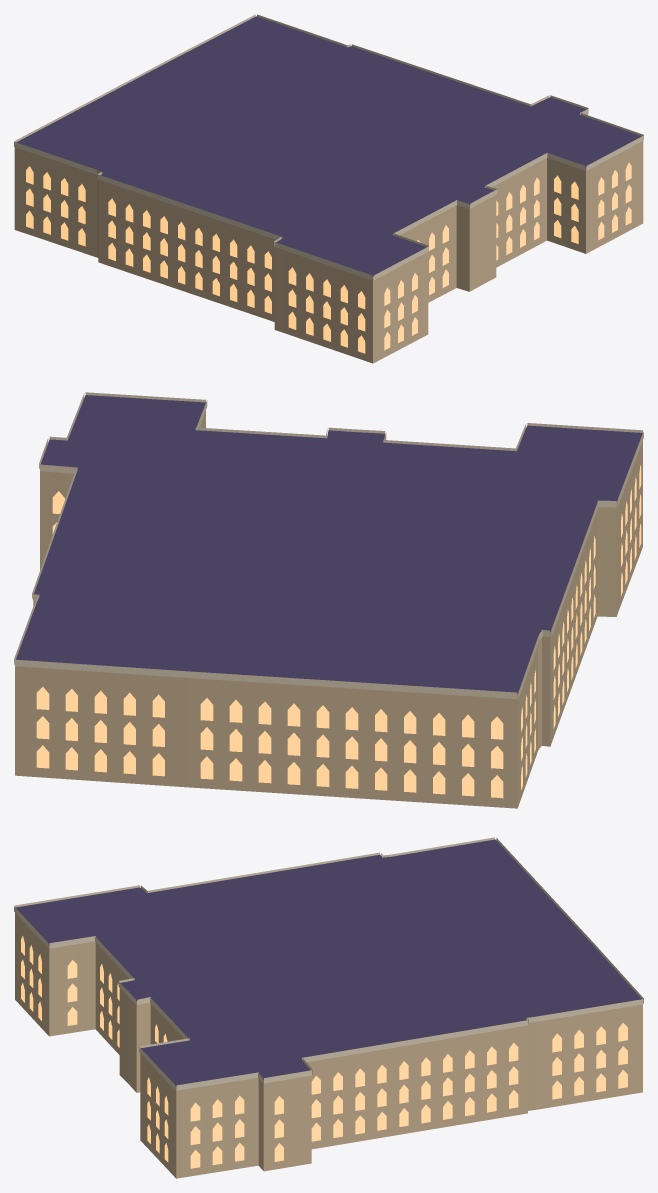
File: core-physics-building.glb
The picture shows the model from 3 angles, top to bottom: view 1: azimuth 30°, elevation 25°; view 2: azimuth 150°, elevation 25°; view 3: azimuth 270°, elevation 25°; orthographic projection. The views are drawn at different scales.
Visible parts, largest first — view 1: campus/core-physics-building-0; view 2: campus/core-physics-building-0; view 3: campus/core-physics-building-0.
Boxes of the visible parts, x1=… form: campus/core-physics-building-0: x1=14, y1=14, x2=643, y2=363; campus/core-physics-building-0: x1=14, y1=392, x2=643, y2=808; campus/core-physics-building-0: x1=14, y1=837, x2=643, y2=1178.
Size of the model in its own units: 74.67 by 13.15 by 80.14.
